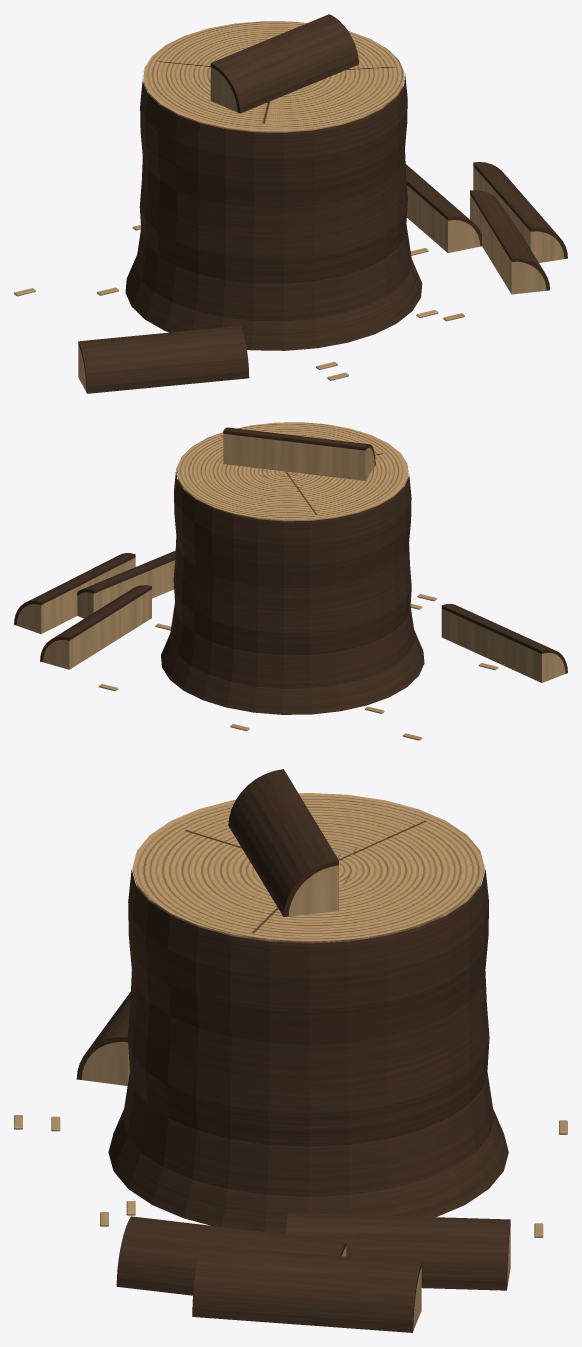
File: toco_lenha.glb
3 renders of one model, top to bottom at view 1: azimuth 30°, elevation 25°; view 2: azimuth 150°, elevation 25°; view 3: azimuth 270°, elevation 25°, orthographic. The views are drawn at different scales.
Parts seen in each view (by area): view 1: toco_lenha_casca, toco_lenha_topo_toco, toco_lenha_madeira_crua; view 2: toco_lenha_casca, toco_lenha_madeira_crua, toco_lenha_topo_toco; view 3: toco_lenha_casca, toco_lenha_topo_toco, toco_lenha_madeira_crua.
Boxes of the visible parts, box(x1,y1,x2,y2) form: toco_lenha_casca: box(78, 14, 567, 393); toco_lenha_topo_toco: box(143, 21, 404, 132); toco_lenha_madeira_crua: box(14, 67, 564, 391); toco_lenha_casca: box(14, 427, 567, 714); toco_lenha_madeira_crua: box(16, 434, 565, 740); toco_lenha_topo_toco: box(176, 422, 408, 521); toco_lenha_casca: box(76, 769, 510, 1332); toco_lenha_topo_toco: box(132, 793, 484, 943); toco_lenha_madeira_crua: box(14, 865, 567, 1330).
Size of the model in its own units: 1.09 by 0.497 by 0.7437.
3 materials, 3 textured.
